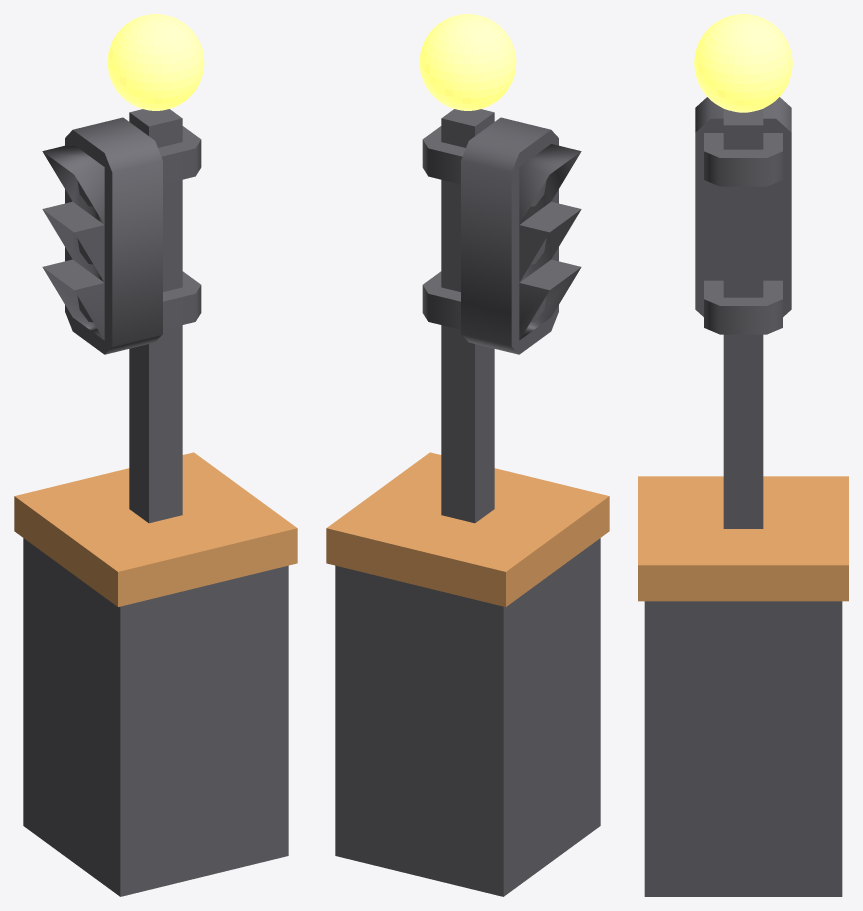
Rendered from signal_pylon.glb.
The picture shows the model from 3 angles, left to right: view 1: azimuth 30°, elevation 25°; view 2: azimuth 150°, elevation 25°; view 3: azimuth 270°, elevation 25°; orthographic projection.
Parts seen in each view (by area): view 1: cabinet, traffic-light, trim, Beacon; view 2: cabinet, traffic-light, trim, Beacon; view 3: cabinet, traffic-light, trim, Beacon.
Part boxes in pixels (box(x1,y1,x2,y2)): cabinet: box(23, 538, 288, 896); traffic-light: box(42, 109, 201, 523); trim: box(14, 452, 297, 606); Beacon: box(107, 14, 204, 110); cabinet: box(335, 538, 600, 896); traffic-light: box(422, 109, 581, 523); trim: box(326, 452, 609, 606); Beacon: box(419, 14, 516, 110); cabinet: box(644, 601, 842, 896); traffic-light: box(695, 97, 791, 528); trim: box(638, 476, 848, 601); Beacon: box(694, 14, 792, 112).
Bounding box in the file's own units: 0.3342 × 1.4 × 0.32.
